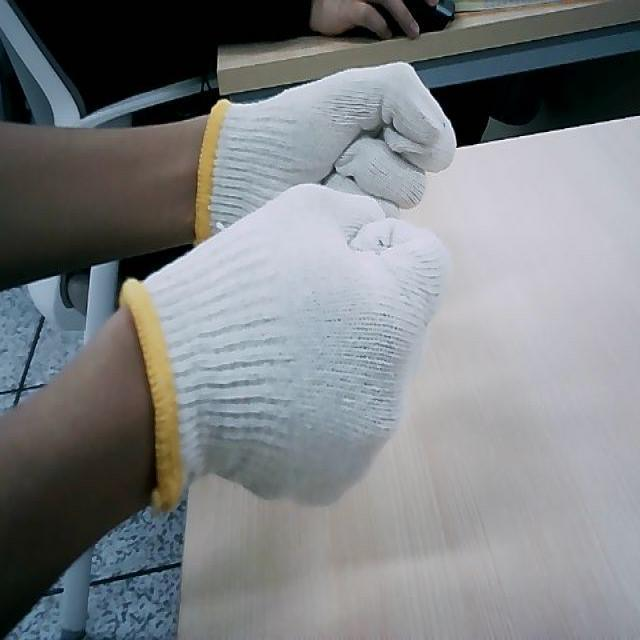gloved_hand: (119, 182, 447, 508), (199, 64, 455, 183)
